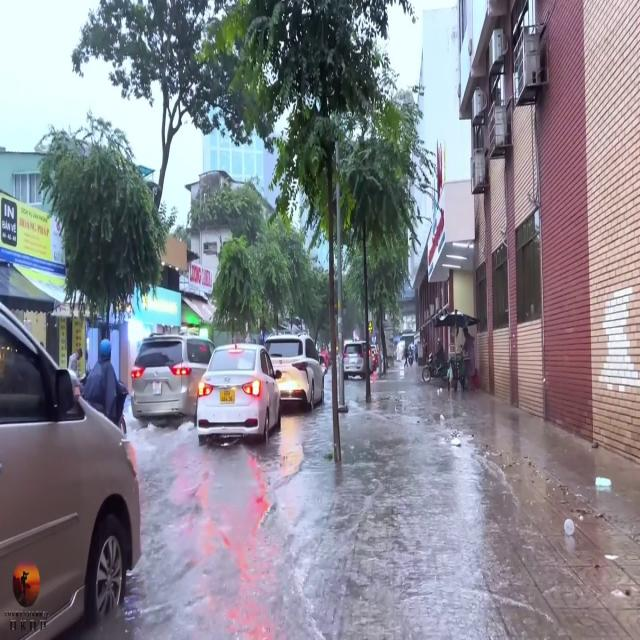bien_vang: (220, 386, 236, 405)
